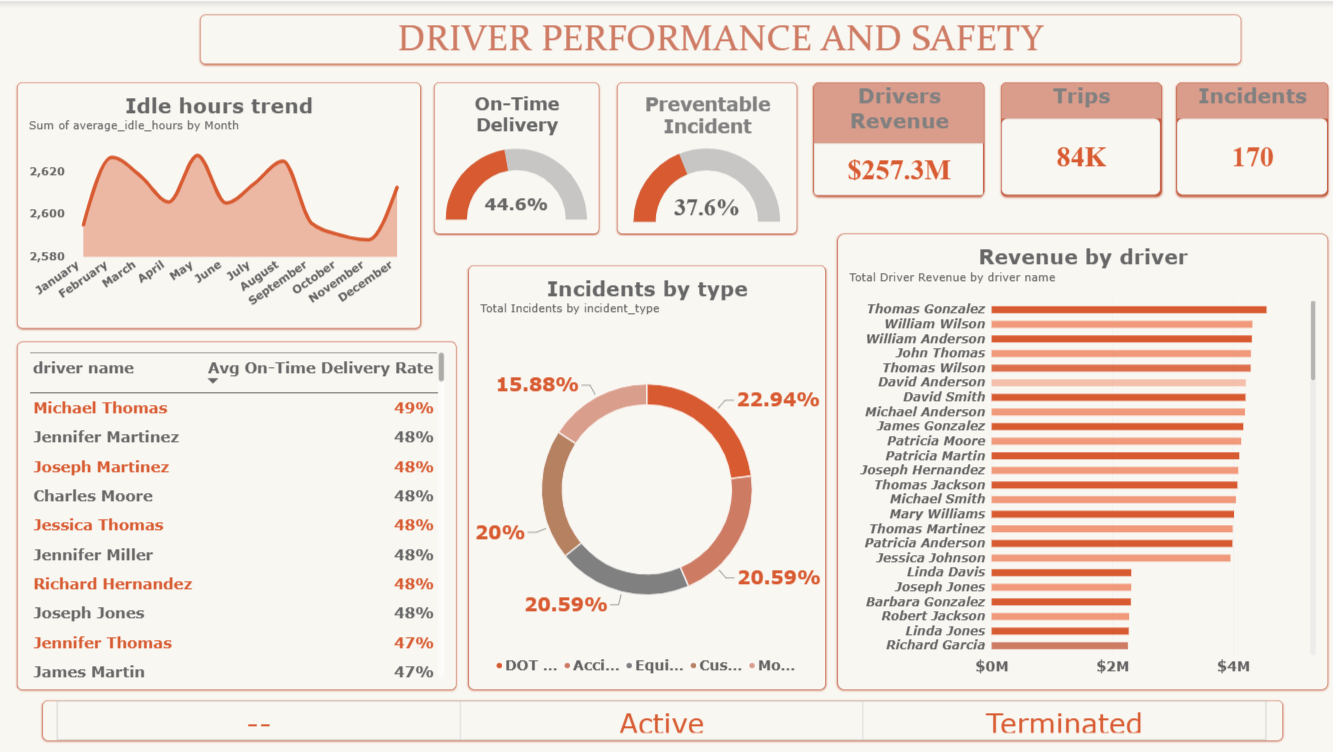

The dashboard page shown, as its layout file describes it:
{"tool":"powerbi","page":{"name":"Driver Performance & Safety","canvas":[1920,1080],"ordinal":1},"visuals":[{"type":"cardVisual","title":"Trips","fields":{"Data":["driver_monthly_metrics.Total Trips Completed"]},"box":[1435.3,116,229.9,163.3],"z":0},{"type":"cardVisual","title":"Drivers Revenue","fields":{"Data":["driver_monthly_metrics.Total Driver Revenue"]},"box":[1166.7,116,244.9,163.3],"z":1000},{"type":"gauge","title":"On-Time Delivery ","fields":{"Y":["driver_monthly_metrics.Avg On-Time Delivery Rate"]},"box":[623.1,116,236.3,217],"z":2000},{"type":"cardVisual","title":"Incidents","fields":{"Data":["safety_incidents.Total Incidents"]},"box":[1686.6,116,217,163.3],"z":3000},{"type":"gauge","title":"Preventable Incident ","fields":{"Y":["safety_incidents.Preventable Incident Rate"]},"box":[885.2,116,257.8,217],"z":4000},{"type":"tableEx","fields":{"Values":["drivers.driver name","driver_monthly_metrics.Avg On-Time Delivery Rate"]},"box":[25.8,487.7,629.5,498.5],"z":5000},{"type":"barChart","title":"Revenue by driver","fields":{"Category":["drivers.driver name"],"Y":["driver_monthly_metrics.Total Driver Revenue"]},"box":[1201.1,333,702.6,653.2],"z":6000},{"type":"donutChart","title":"Incidents by type","fields":{"Category":["safety_incidents.incident_type"],"Y":["safety_incidents.Total Incidents"]},"box":[672.5,378.2,511.4,608],"z":7000},{"type":"areaChart","title":"Idle hours trend","fields":{"Category":["driver_monthly_metrics.month.Variation.Date Hierarchy.Month"],"Y":["Sum(driver_monthly_metrics.average_idle_hours)"]},"box":[25.8,116,578,352.4],"z":8000},{"type":"advancedSlicerVisual","fields":{"Values":["drivers.employment_status"]},"box":[62.3,1001.2,1776.9,58],"z":9000},{"type":"textbox","box":[287.9,19.3,1491.1,70.9],"z":10000}]}

Visuals, with their boxes in screenshot pixels (x1, y1, x2, y2), scaled from the page's 1920x1080 canvas onto the 1333x752 screenshot:
"Trips" cardVisual: left=996, top=81, right=1156, bottom=194
"Drivers Revenue" cardVisual: left=810, top=81, right=980, bottom=194
"On-Time Delivery " gauge: left=433, top=81, right=597, bottom=232
"Incidents" cardVisual: left=1171, top=81, right=1322, bottom=194
"Preventable Incident " gauge: left=615, top=81, right=794, bottom=232
tableEx - drivers.driver name x driver_monthly_metrics.Avg On-Time Delivery Rate: left=18, top=340, right=455, bottom=687
"Revenue by driver" barChart: left=834, top=232, right=1322, bottom=687
"Incidents by type" donutChart: left=467, top=263, right=822, bottom=687
"Idle hours trend" areaChart: left=18, top=81, right=419, bottom=326
advancedSlicerVisual - drivers.employment_status: left=43, top=697, right=1277, bottom=738
textbox: left=200, top=13, right=1235, bottom=63
